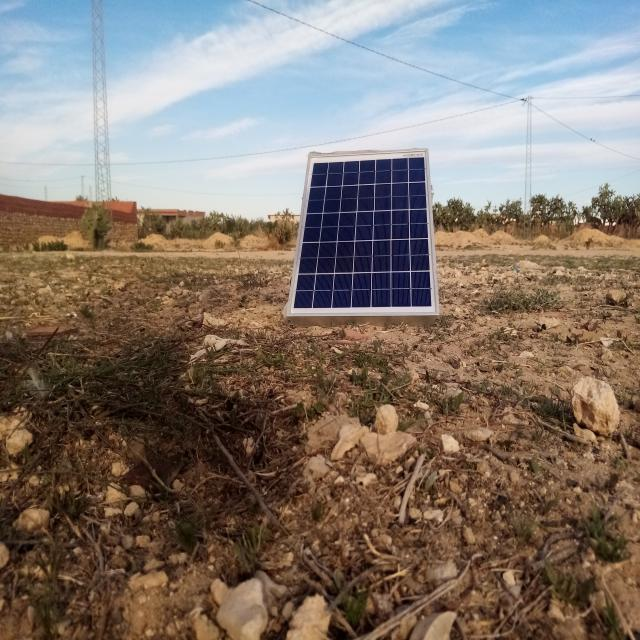no faulty: (288, 149, 438, 316)
